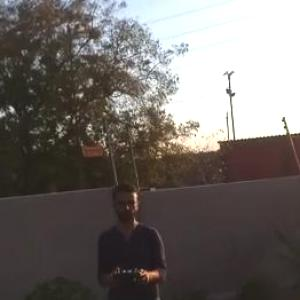follow: (93, 172, 174, 299)
